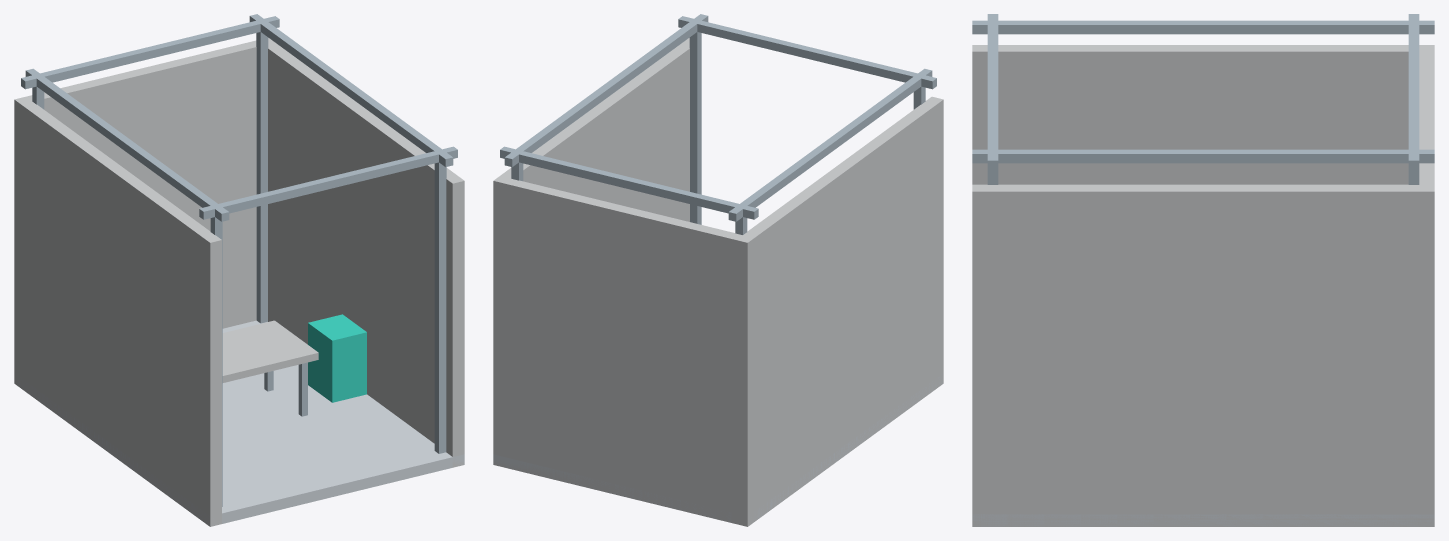
3 views of the same model, side by side, from view 1: azimuth 30°, elevation 25°; view 2: azimuth 150°, elevation 25°; view 3: azimuth 270°, elevation 25° (orthographic). The views are drawn at different scales.
Parts seen in each view (by area): view 1: Exhibition Booth Concept; view 2: Exhibition Booth Concept; view 3: Exhibition Booth Concept.
Boxes of the visible parts, x1=… form: Exhibition Booth Concept: x1=14, y1=14, x2=464, y2=526; Exhibition Booth Concept: x1=493, y1=14, x2=943, y2=526; Exhibition Booth Concept: x1=972, y1=14, x2=1434, y2=526.
Size of the model in its own units: 3 by 3.49 by 4.
